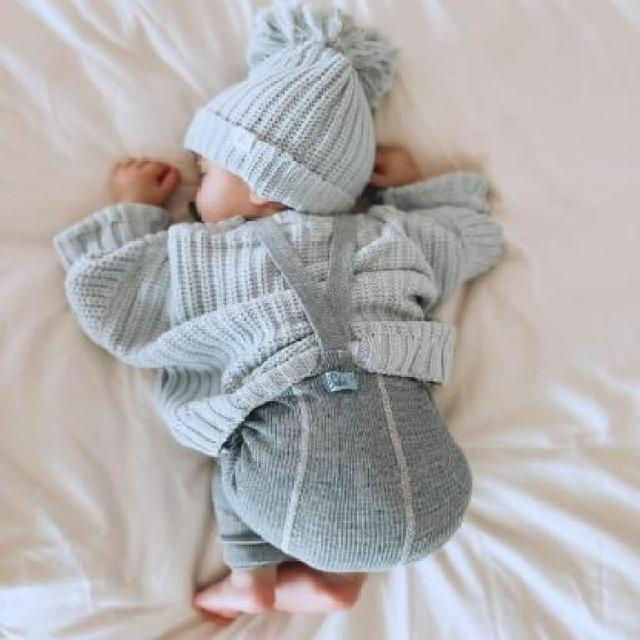baby: (50, 38, 504, 614)
